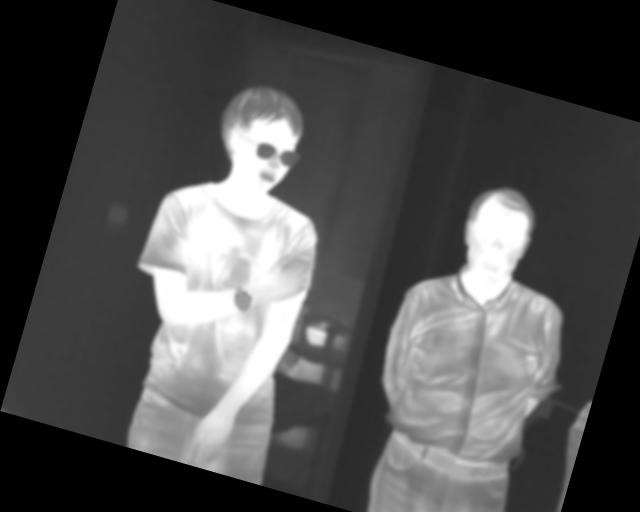face: (204, 75, 315, 201), (450, 176, 546, 294)
